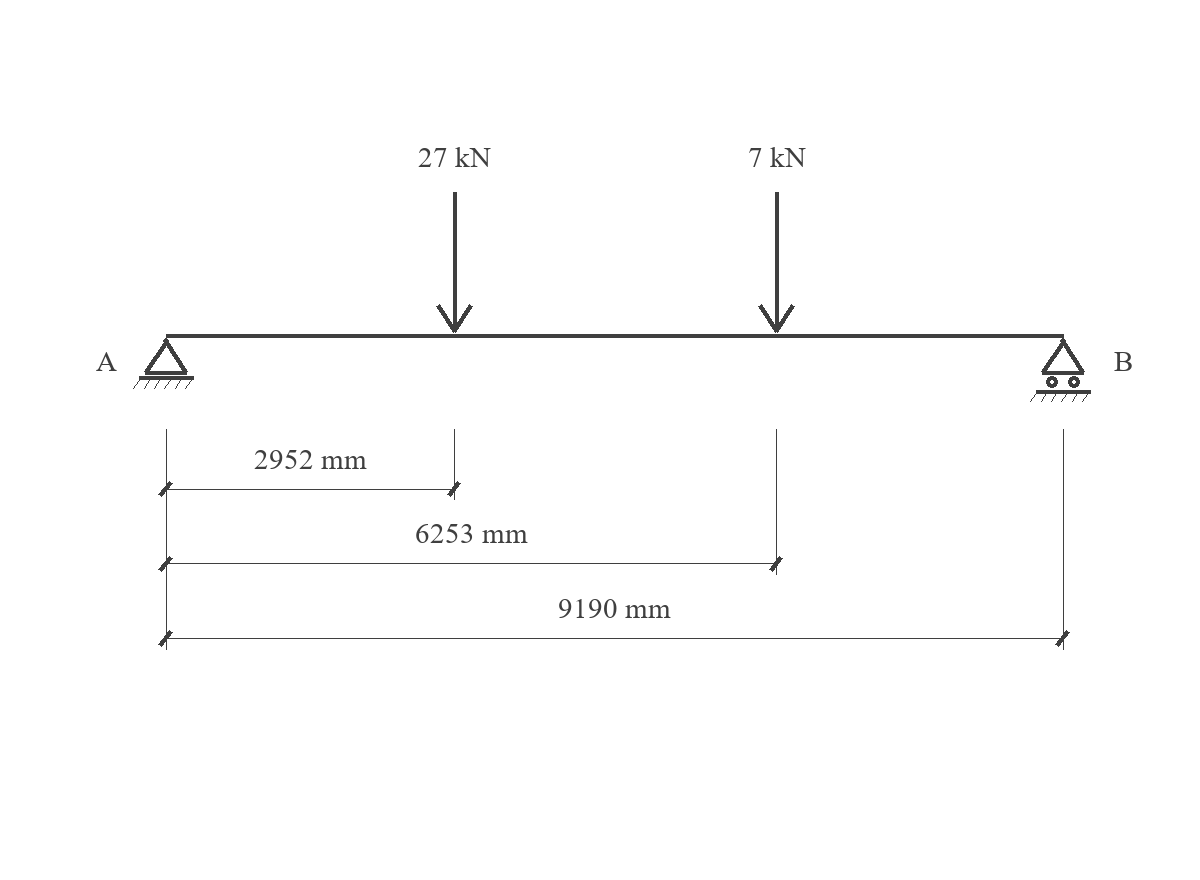pin_support: (133, 338, 194, 389)
point_load: (436, 192, 473, 333), (758, 192, 795, 333)
roller_support: (1030, 338, 1091, 402)
